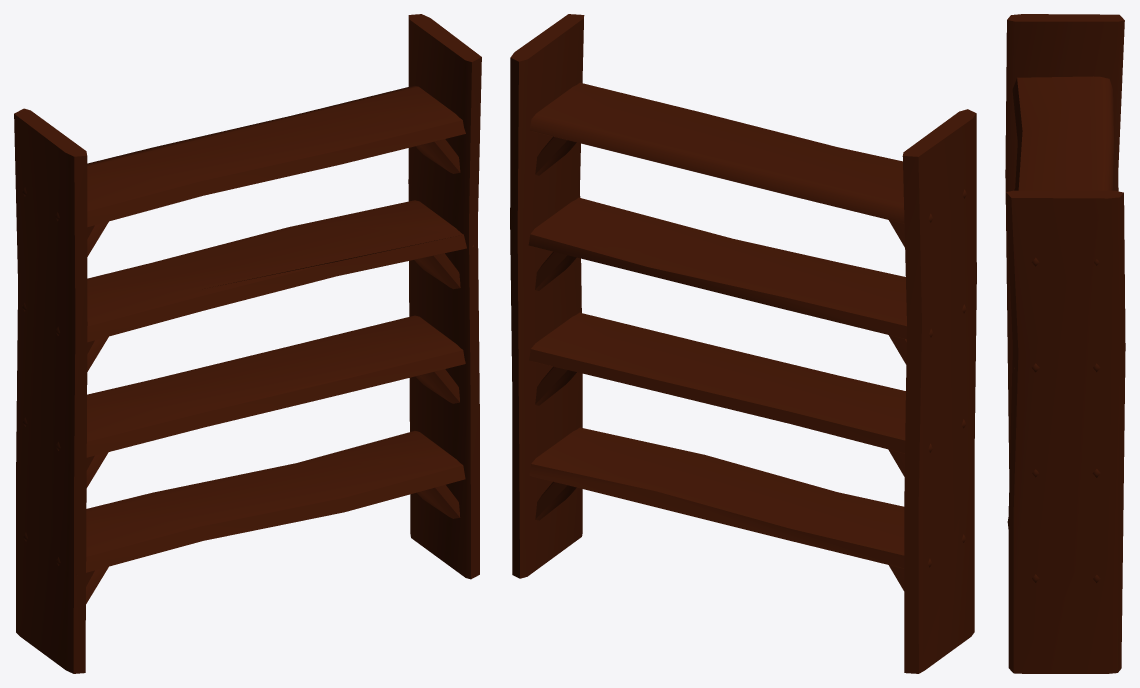
File: shelf.obj
The picture shows the model from 3 angles, left to right: view 1: azimuth 30°, elevation 25°; view 2: azimuth 150°, elevation 25°; view 3: azimuth 270°, elevation 25°; orthographic projection. The views are drawn at different scales.
Parts seen in each view (by area): view 1: bibliotheque; view 2: bibliotheque; view 3: bibliotheque.
Part boxes in pixels (bbox=[...]): bibliotheque: bbox=[14, 14, 481, 673]; bibliotheque: bbox=[510, 14, 976, 673]; bibliotheque: bbox=[1005, 14, 1125, 673].
Size of the model in its own units: 0.3028 by 0.36 by 0.0823.
